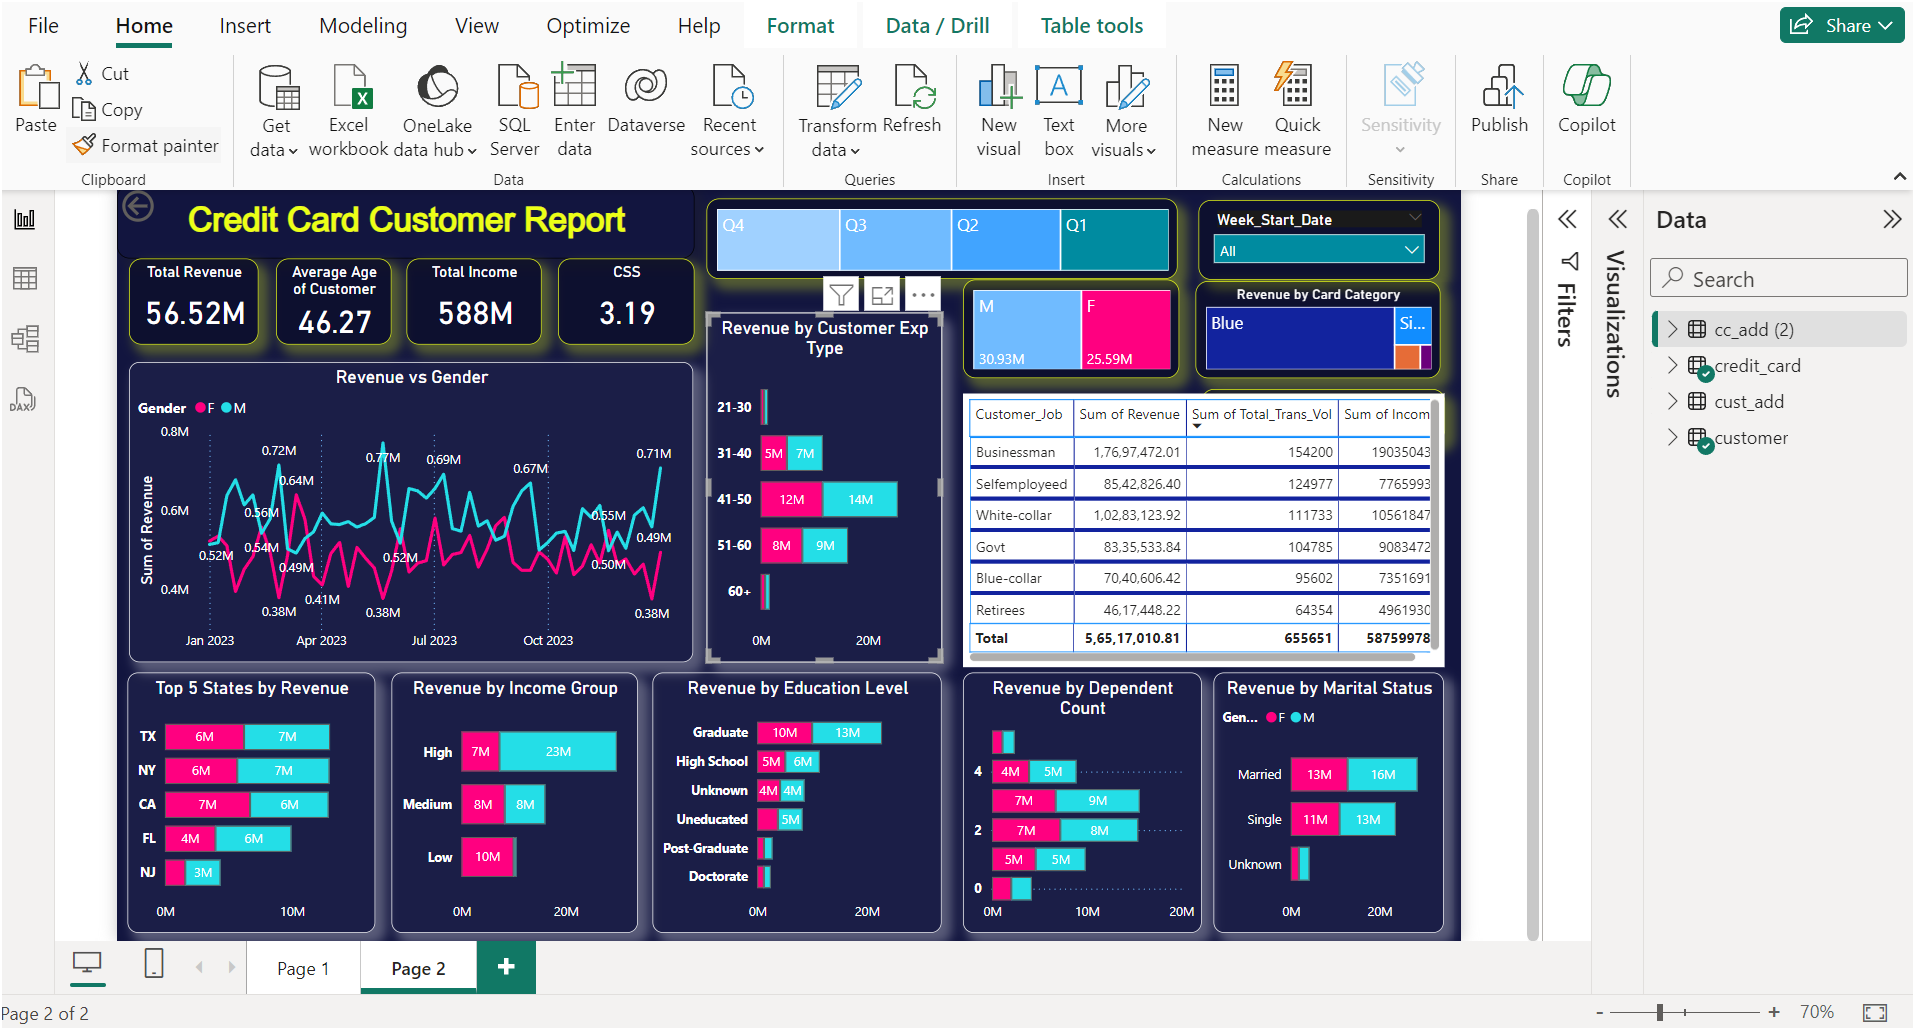

Layout of this report page (visuals, bound fields, positions):
{"tool":"powerbi","page":{"name":"Page 2","canvas":[1280,720],"ordinal":1},"visuals":[{"type":"textbox","box":[0,0,550,70],"z":0},{"type":"barChart","title":"Revenue by Income Group","fields":{"Y":["Sum(credit_card.Revenue)"],"Category":["customer.Income Group"],"Series":["customer.Gender"]},"box":[262,464.9,234.7,248.3],"z":1000},{"type":"treemap","title":"Revenue by Payment Mode","fields":{"Details":["credit_card.Qtr"],"Values":["Avg(credit_card.Client_Num)"]},"box":[561.7,13.3,448.3,76.7],"z":2000},{"type":"card","title":"Total Revenue","fields":{"Values":["Sum(credit_card.Revenue)"]},"box":[11.7,70,123.3,81.7],"z":3000},{"type":"card","title":"Average Age of Customer","fields":{"Values":["Avg(customer.Customer_Age)"]},"box":[151.7,70,110,81.7],"z":4000},{"type":"card","title":"Total Income","fields":{"Values":["Sum(customer.Income)"]},"box":[275,70,128.3,81.7],"z":5000},{"type":"card","title":"CSS","fields":{"Values":["Avg(customer.Cust_Satisfaction_Score)"]},"box":[420,70,130,81.7],"z":6000},{"type":"slicer","fields":{"Values":["credit_card.Week_Start_Date"]},"box":[1030,13.8,230,76.2],"z":8000},{"type":"treemap","title":"Revenue by Payment Mode","fields":{"Group":["customer.Gender"],"Values":["Sum(credit_card.Revenue)"]},"box":[805.6,89.3,205.9,93.9],"z":9000},{"type":"treemap","title":"Revenue by Payment Mode","fields":{"Values":["Avg(credit_card.Client_Num)"],"Group":["credit_card.Card_Category"]},"box":[1032.3,193.8,232.3,50.8],"z":11000},{"type":"lineChart","title":"Revenue vs Gender","fields":{"Y":["Sum(credit_card.Revenue)"],"Series":["customer.Gender"],"Category":["credit_card.Week_Start_Date.Variation.Date Hierarchy.Year","credit_card.Week_Start_Date.Variation.Date Hierarchy.Quarter","credit_card.Week_Start_Date.Variation.Date Hierarchy.Month","credit_card.Week_Start_Date.Variation.Date Hierarchy.Day"]},"box":[12.1,168.1,537.5,286.2],"z":12000},{"type":"barChart","title":"Revenue by Customer Exp Type","fields":{"Y":["Sum(credit_card.Revenue)"],"Category":["customer.Age Group"],"Series":["customer.Gender"]},"box":[561.8,121.1,224.1,333.1],"z":12001},{"type":"barChart","title":"Revenue by Education Level","fields":{"Y":["Sum(credit_card.Revenue)"],"Category":["customer.Education_Level"],"Series":["customer.Gender"]},"box":[510.3,464.9,275.6,248.3],"z":12002},{"type":"barChart","title":"Revenue by Marital Status","fields":{"Y":["Sum(credit_card.Revenue)"],"Category":["customer.Marital_Status"],"Series":["customer.Gender"]},"box":[1044.8,464.9,219.6,248.3],"z":12003},{"type":"barChart","title":"Revenue by Dependent Count","fields":{"Y":["Sum(credit_card.Revenue)"],"Category":["customer.Dependent_Count"],"Series":["customer.Gender"]},"box":[805.6,464.9,227.1,248.3],"z":12004},{"type":"barChart","title":"Top 5 States by Revenue","fields":{"Category":["customer.state_cd"],"Y":["Sum(credit_card.Revenue)"],"Series":["customer.Gender"]},"box":[10.6,464.9,236.2,248.3],"z":12005},{"type":"tableEx","fields":{"Values":["customer.Customer_Job","Sum(credit_card.Revenue)","Sum(credit_card.Total_Trans_Vol)","Sum(customer.Income)"]},"box":[805.6,198.4,458.8,260.4],"z":12006},{"type":"actionButton","box":[0,0,100,40],"z":12007},{"type":"treemap","title":"Revenue by Card Category","fields":{"Group":["credit_card.Card_Category"],"Values":["Sum(credit_card.Revenue)"]},"box":[1026.6,90.9,233.2,92.4],"z":12008}]}

Visuals, with their boxes on the page's 1280x720 design canvas (x1, y1, x2, y2). These are canvas units, not pixel positions in the 1915x1030 screenshot, which may show the page scaled, cropped or inside an application window:
textbox: [x1=0, y1=0, x2=550, y2=70]
"Revenue by Income Group" barChart: [x1=262, y1=465, x2=497, y2=713]
"Revenue by Payment Mode" treemap: [x1=562, y1=13, x2=1010, y2=90]
"Total Revenue" card: [x1=12, y1=70, x2=135, y2=152]
"Average Age of Customer" card: [x1=152, y1=70, x2=262, y2=152]
"Total Income" card: [x1=275, y1=70, x2=403, y2=152]
"CSS" card: [x1=420, y1=70, x2=550, y2=152]
slicer - credit_card.Week_Start_Date: [x1=1030, y1=14, x2=1260, y2=90]
"Revenue by Payment Mode" treemap: [x1=806, y1=89, x2=1012, y2=183]
"Revenue by Payment Mode" treemap: [x1=1032, y1=194, x2=1265, y2=245]
"Revenue vs Gender" lineChart: [x1=12, y1=168, x2=550, y2=454]
"Revenue by Customer Exp Type" barChart: [x1=562, y1=121, x2=786, y2=454]
"Revenue by Education Level" barChart: [x1=510, y1=465, x2=786, y2=713]
"Revenue by Marital Status" barChart: [x1=1045, y1=465, x2=1264, y2=713]
"Revenue by Dependent Count" barChart: [x1=806, y1=465, x2=1033, y2=713]
"Top 5 States by Revenue" barChart: [x1=11, y1=465, x2=247, y2=713]
tableEx - customer.Customer_Job x Sum(credit_card.Revenue): [x1=806, y1=198, x2=1264, y2=459]
actionButton: [x1=0, y1=0, x2=100, y2=40]
"Revenue by Card Category" treemap: [x1=1027, y1=91, x2=1260, y2=183]
